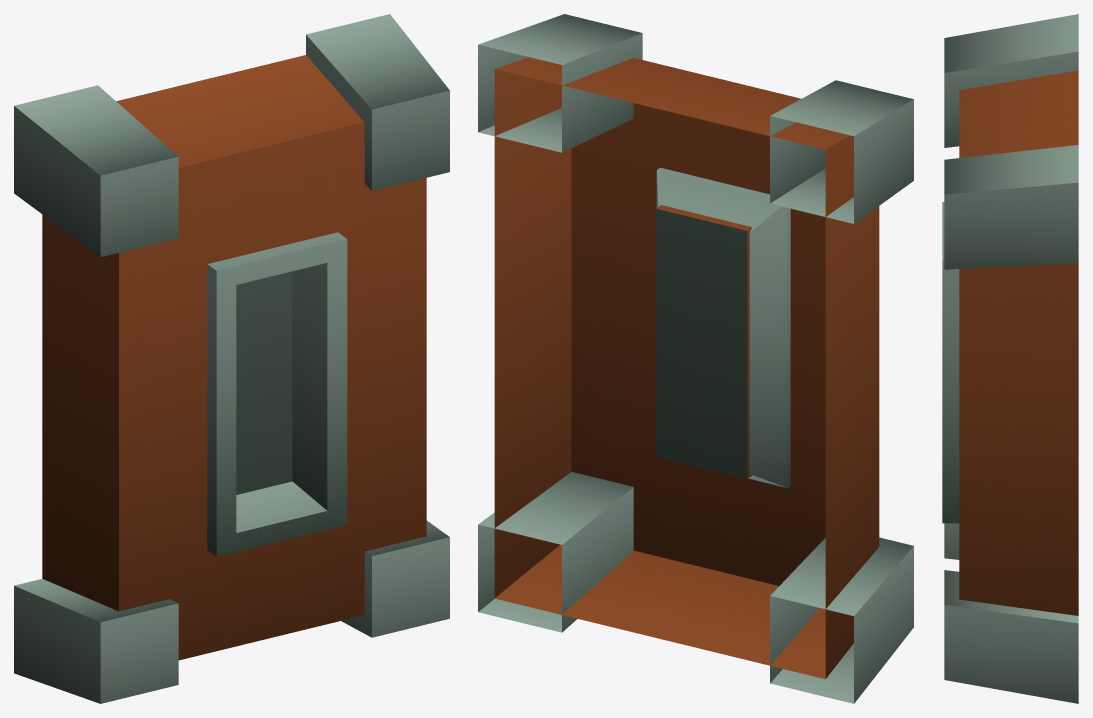
The model's file is switch_006.fbx.
3 renders of one model, left to right at view 1: azimuth 30°, elevation 25°; view 2: azimuth 150°, elevation 25°; view 3: azimuth 270°, elevation 25°, orthographic. The views are drawn at different scales.
Visible parts, largest first — view 1: switch.006; view 2: switch.006; view 3: switch.006.
Part boxes in pixels (x1,y1,x2,y2): switch.006: (14, 14, 449, 703); switch.006: (478, 14, 913, 703); switch.006: (942, 14, 1078, 703).
Size of the model in its own units: 62.72 by 90.48 by 21.46.
